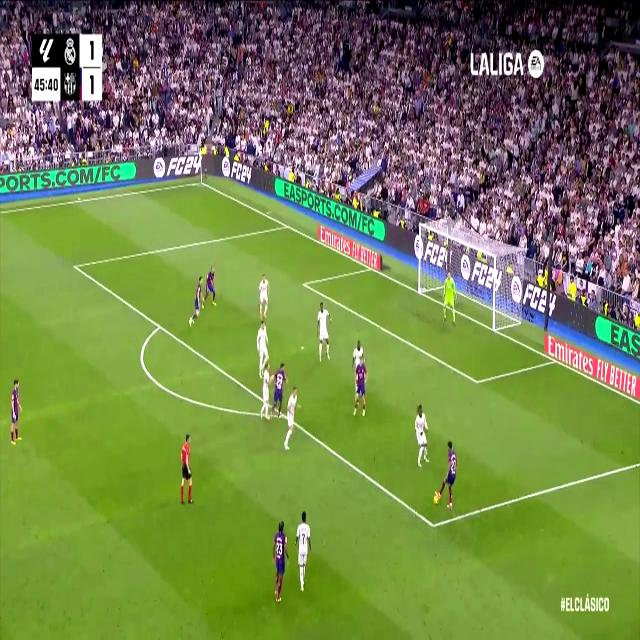bigarea_bottom_inner: (428, 512, 438, 538)
bigarea_top_inner: (70, 256, 80, 275)
bigarea_top_outter: (282, 218, 290, 232)
corner: (196, 176, 206, 188)
smallarea_top_inner: (300, 276, 308, 291)
top_arc_area_intersection: (155, 316, 165, 335)
